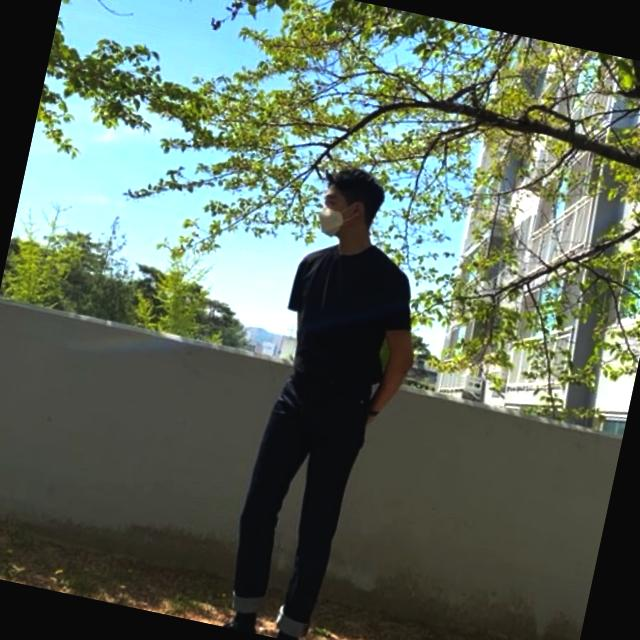denimpants: (218, 360, 374, 640)
shortsleeve: (272, 226, 431, 404)
